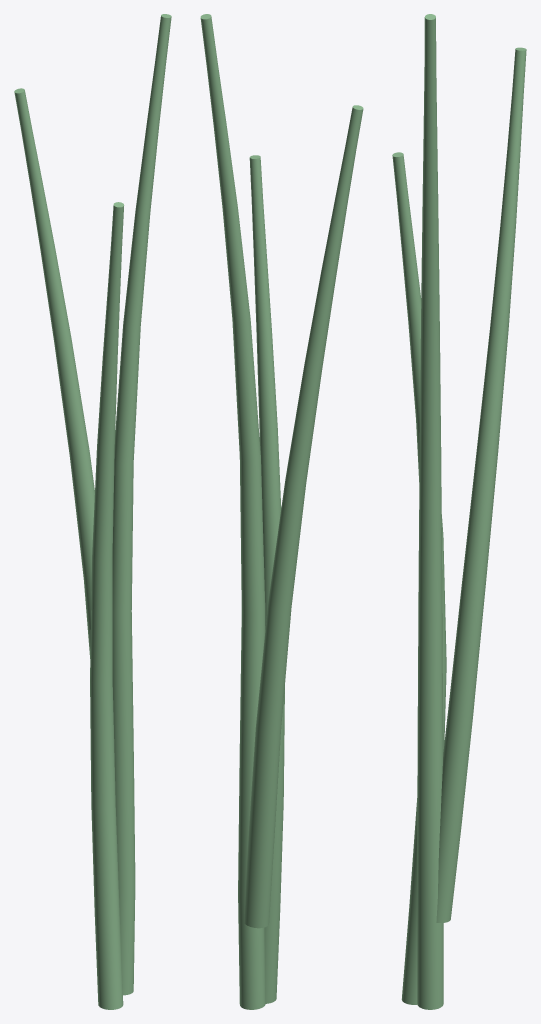
File: longGrass.fbx
3 renders of one model, left to right at view 1: azimuth 30°, elevation 25°; view 2: azimuth 210°, elevation 25°; view 3: azimuth 270°, elevation 25°, orthographic. The views are drawn at different scales.
Parts seen in each view (by area): view 1: pCylinder7, pCylinder8, pCylinder6; view 2: pCylinder7, pCylinder6, pCylinder8; view 3: pCylinder7, pCylinder6, pCylinder8.
Part boxes in pixels (x1=…): pCylinder7: x1=112, y1=14, x2=171, y2=995; pCylinder8: x1=90, y1=202, x2=124, y2=1009; pCylinder6: x1=14, y1=88, x2=94, y2=658; pCylinder7: x1=200, y1=14, x2=265, y2=1009; pCylinder6: x1=244, y1=105, x2=363, y2=928; pCylinder8: x1=249, y1=155, x2=284, y2=1003; pCylinder7: x1=417, y1=14, x2=443, y2=1009; pCylinder6: x1=436, y1=47, x2=526, y2=922; pCylinder8: x1=392, y1=152, x2=446, y2=1004.
Bounding box in the file's own units: 0.9003 × 7.4 × 0.8854.
